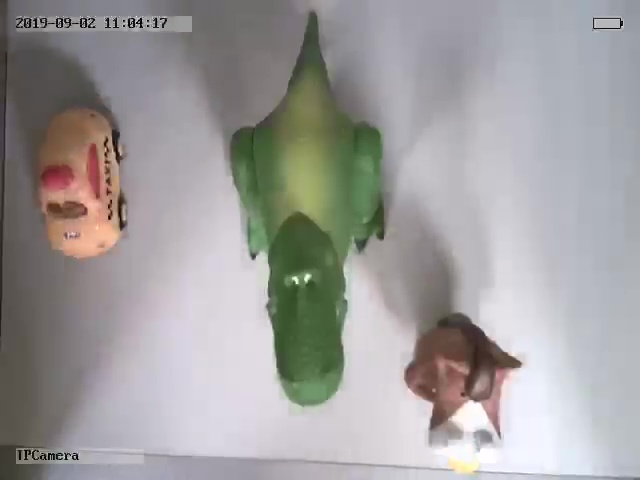car: (37, 109, 130, 256)
horse: (404, 312, 524, 477)
rex: (228, 16, 385, 407)
